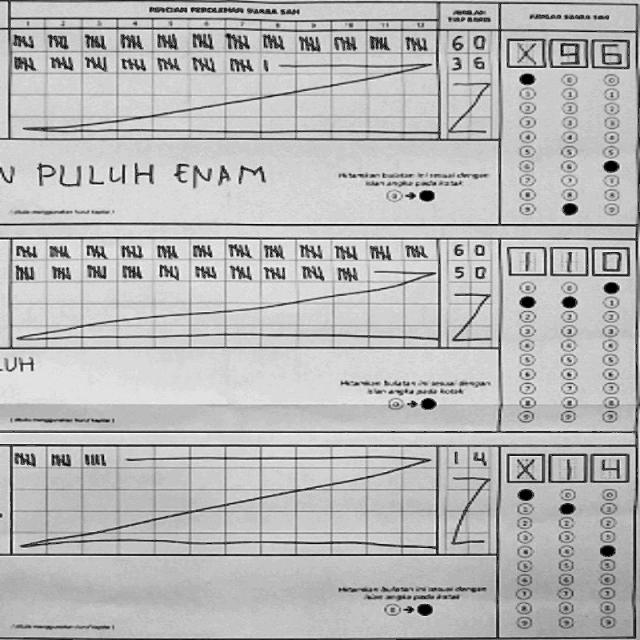Suara: (500, 449, 626, 488), (502, 35, 636, 67), (503, 240, 633, 272)
